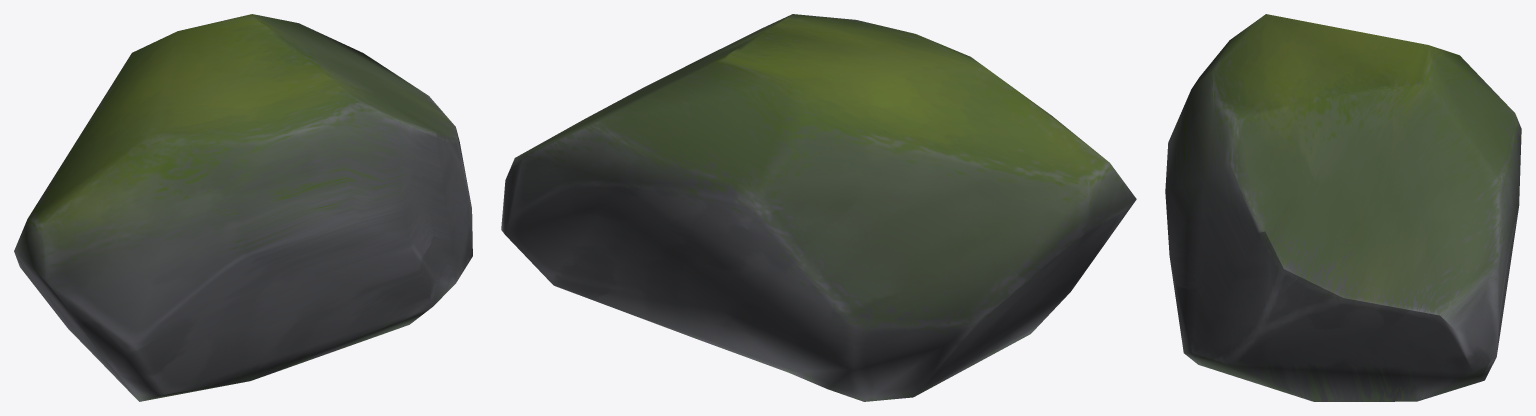
The model's file is Stone3_Moss2.fbx.
The picture shows the model from 3 angles, left to right: view 1: azimuth 30°, elevation 25°; view 2: azimuth 150°, elevation 25°; view 3: azimuth 270°, elevation 25°; orthographic projection. The views are drawn at different scales.
Parts seen in each view (by area): view 1: Stone3_Moss2; view 2: Stone3_Moss2; view 3: Stone3_Moss2.
Part boxes in pixels (<box>): Stone3_Moss2: <box>14,14,472,401</box>; Stone3_Moss2: <box>501,14,1136,401</box>; Stone3_Moss2: <box>1165,14,1521,401</box>.
Size of the model in its own units: 200 by 108 by 121.
Materials: 1 (1 with a texture image).
